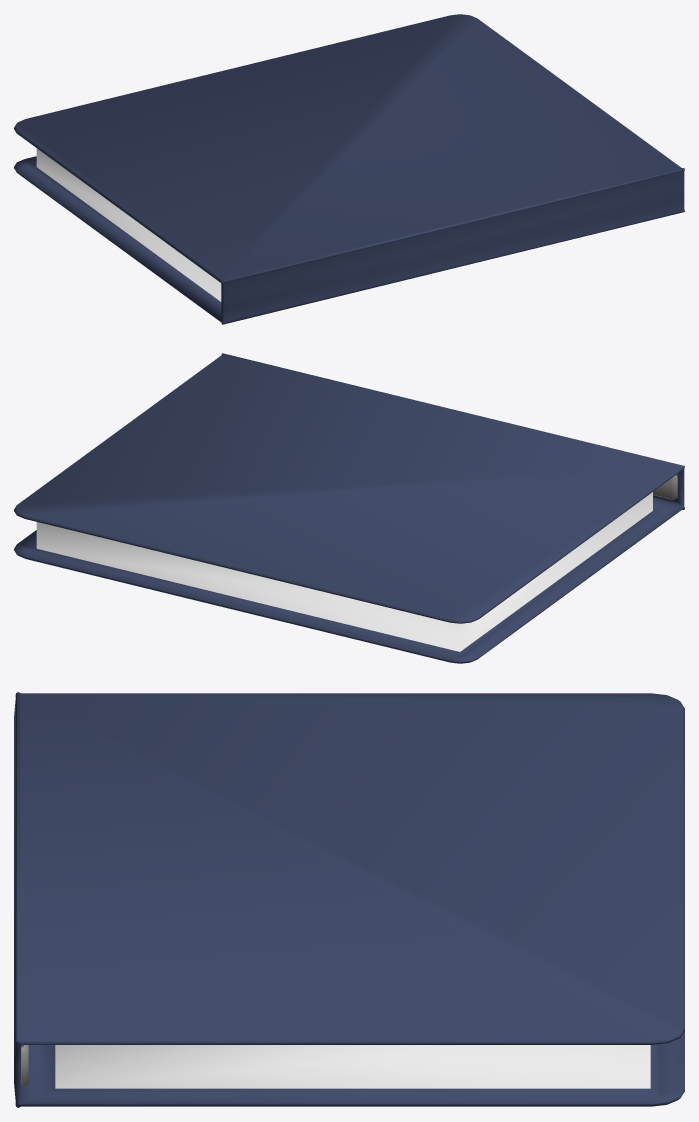
The model's file is folder.fbx.
3 views of the same model, one above another, from view 1: azimuth 30°, elevation 25°; view 2: azimuth 150°, elevation 25°; view 3: azimuth 270°, elevation 25° (orthographic). The views are drawn at different scales.
Visible parts, largest first — view 1: Plane; view 2: Plane; view 3: Plane.
Part boxes in pixels (x1,y1,x2,y2): Plane: (14, 14, 684, 324); Plane: (14, 353, 684, 663); Plane: (14, 692, 684, 1107).
Size of the model in its own units: 32 by 2.9 by 26.07.
